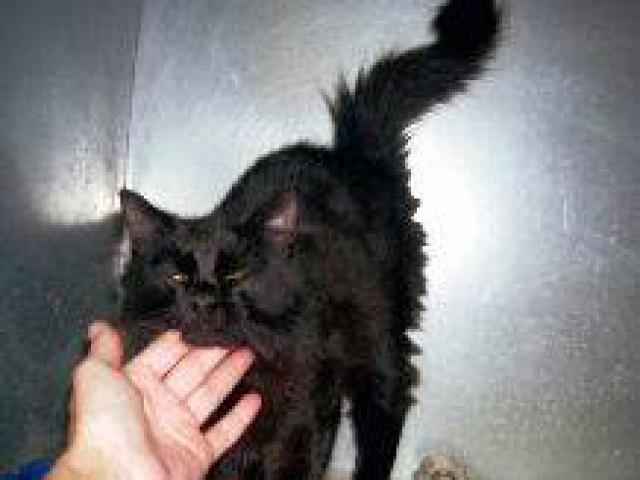cat: (124, 22, 465, 469)
